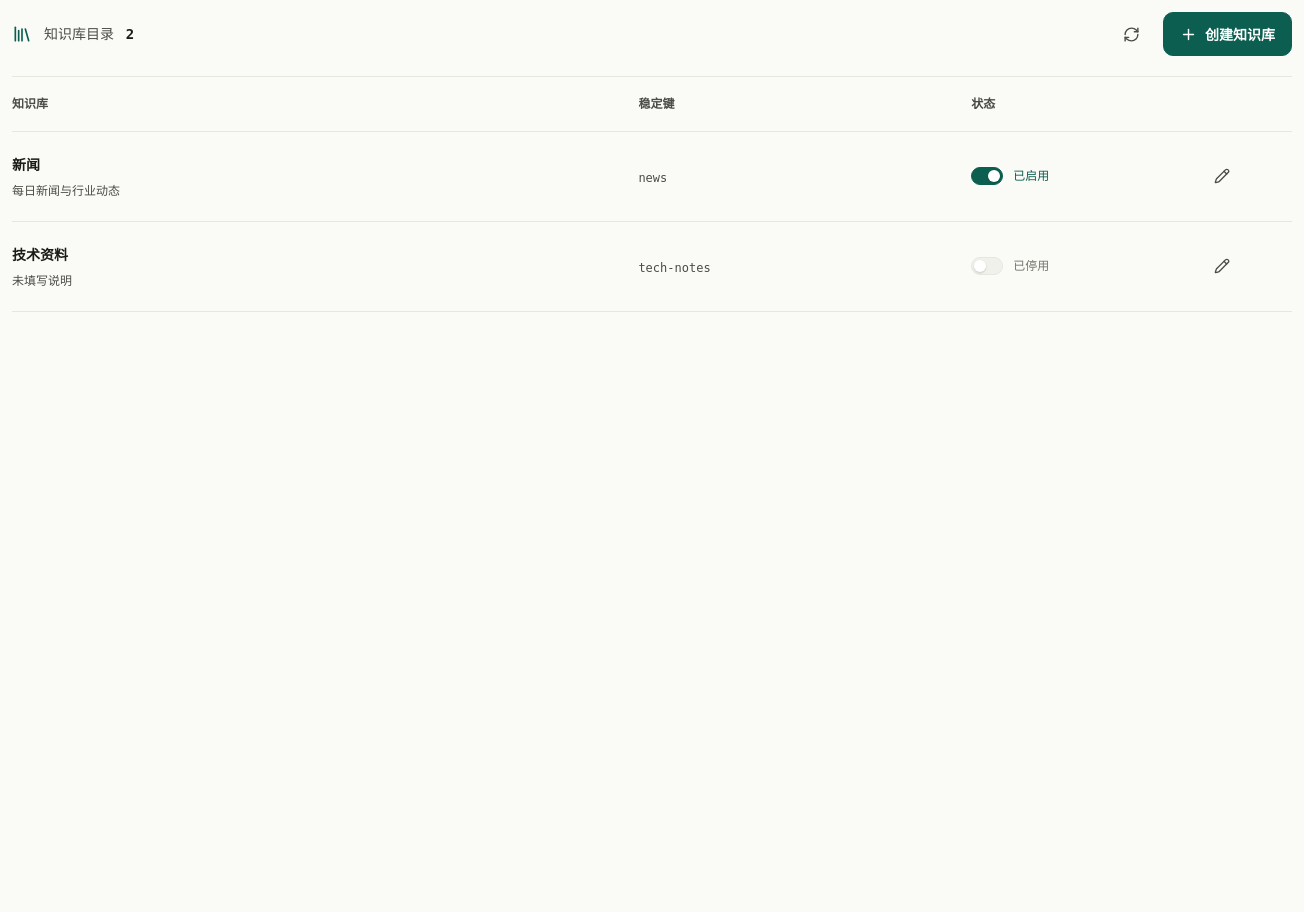
Test: KnowledgeBasesPage › validates creation, then inserts the confirmed record and restores focus
Click the button "创建知识库" at [1228, 34], box [1163, 12, 1292, 56]
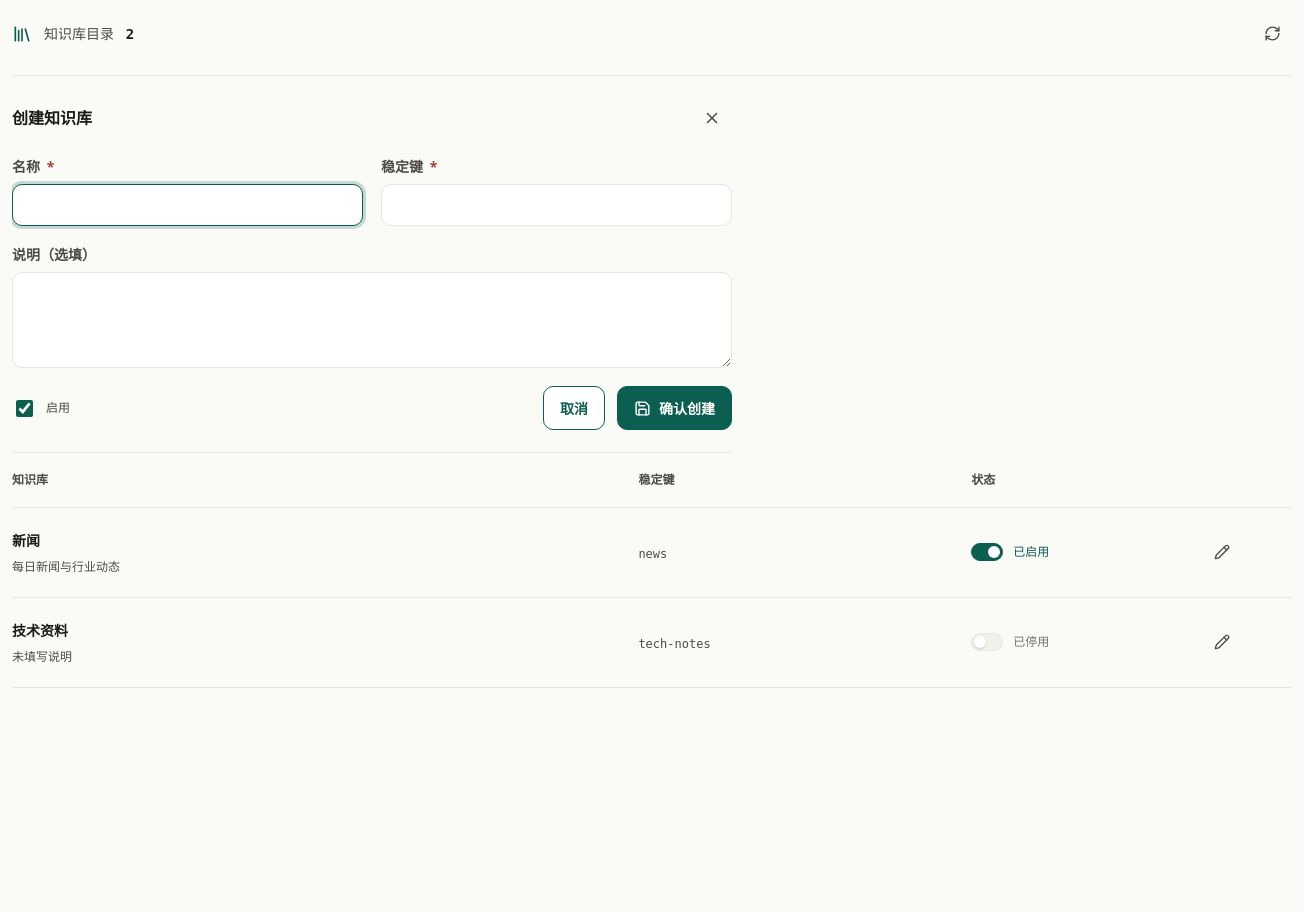
Submit the form, box [12, 76, 732, 453]
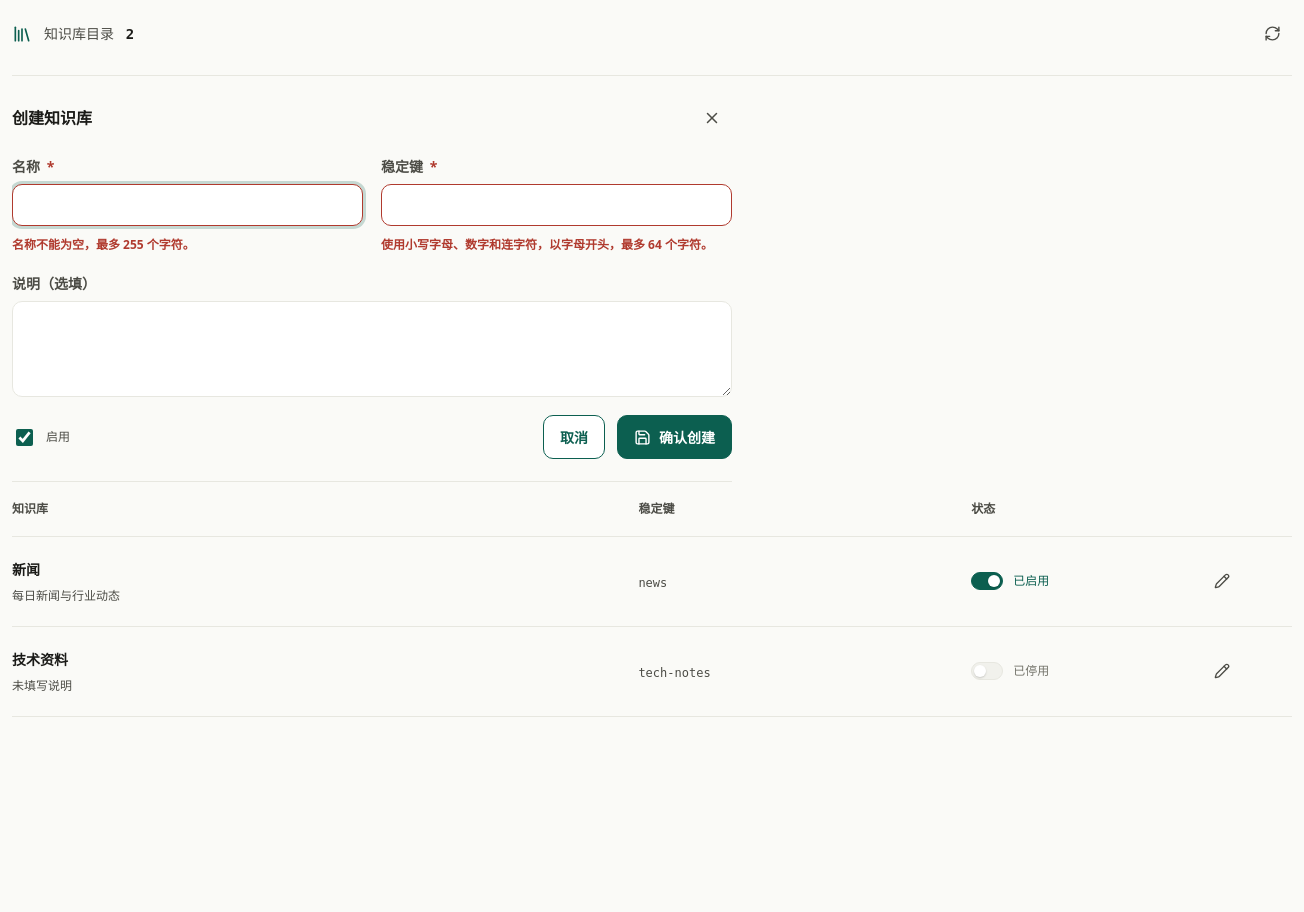
Check: the text "名称不能为空" is shown, box [12, 236, 195, 253]
Type " 研究资料 " into the field named "knowledge-base-name" at [188, 205], box [12, 184, 363, 226]
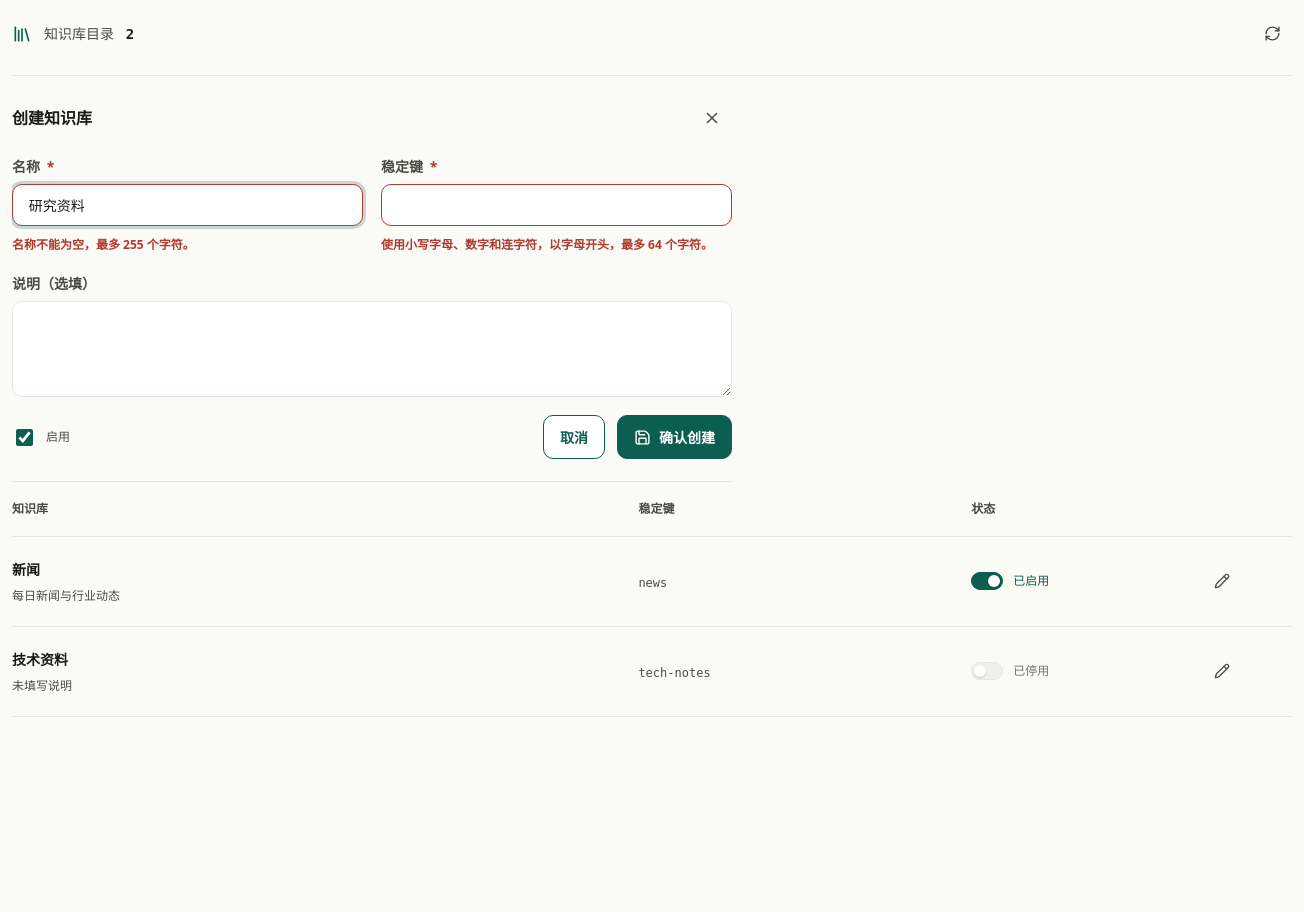
Type "research" into the field named "knowledge-base-key" at [556, 205], box [381, 184, 732, 226]
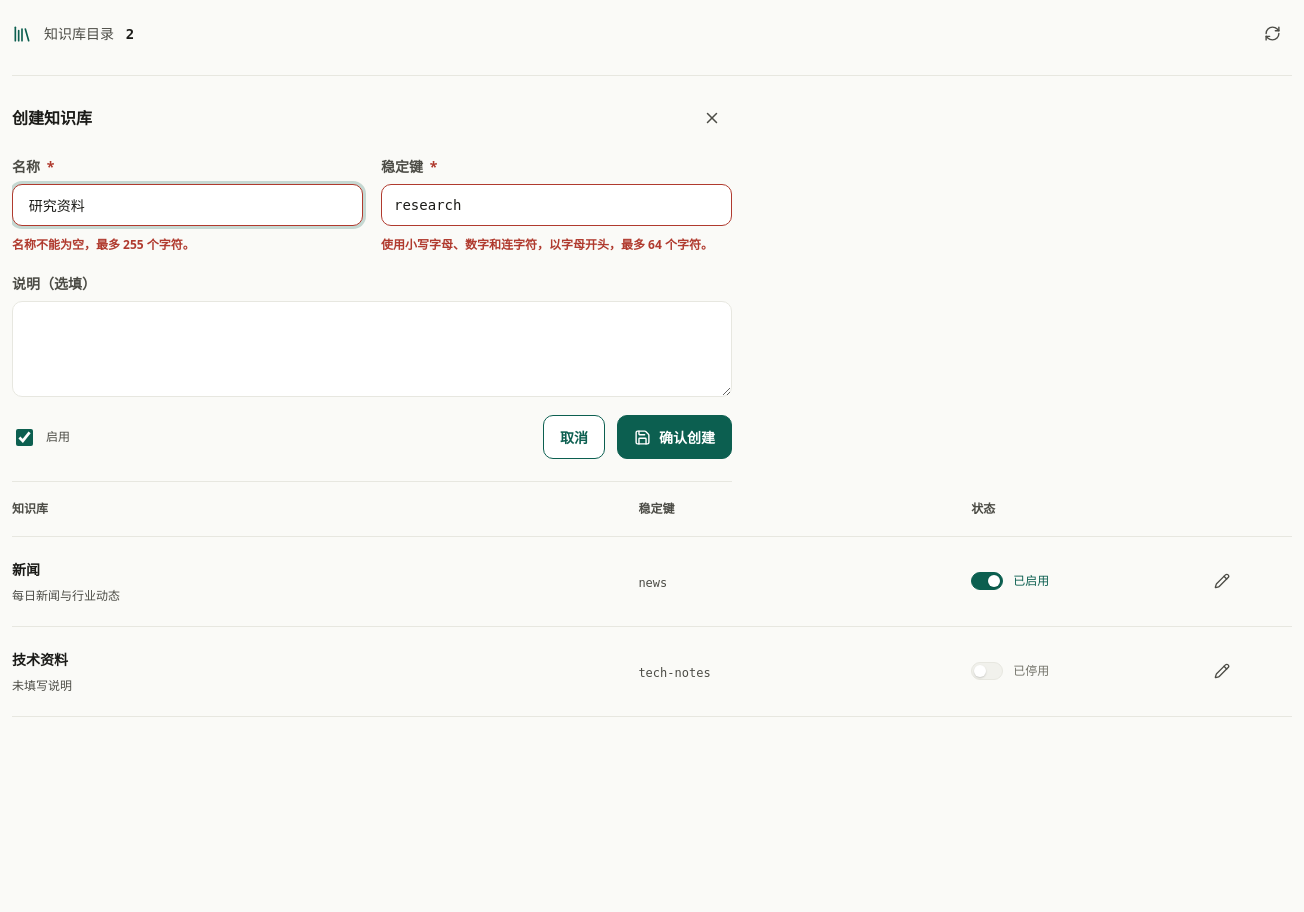
Submit the form, box [12, 76, 732, 482]
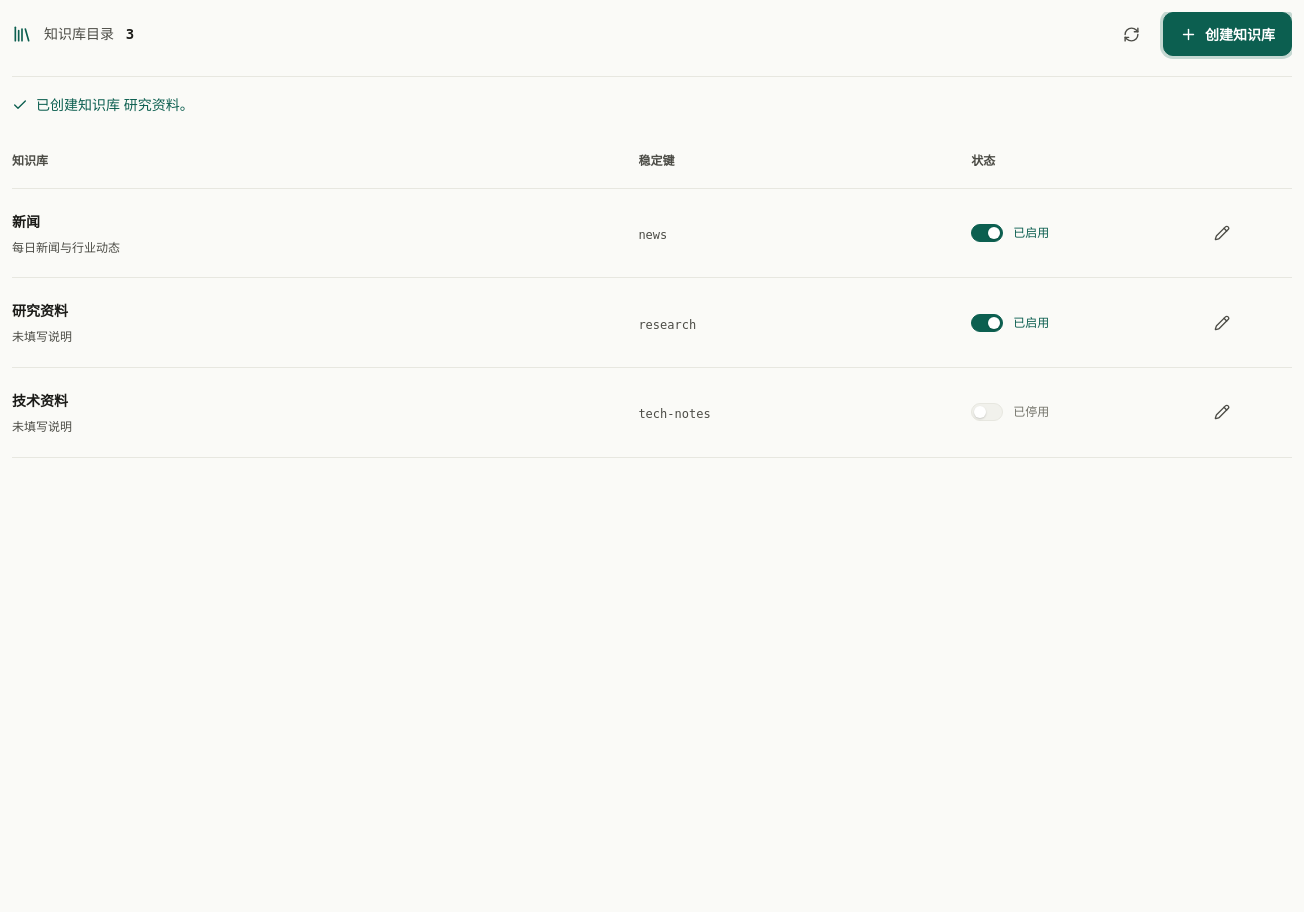
Check: the message "已创建知识库 研究资料。" is shown, box [12, 95, 194, 114]
